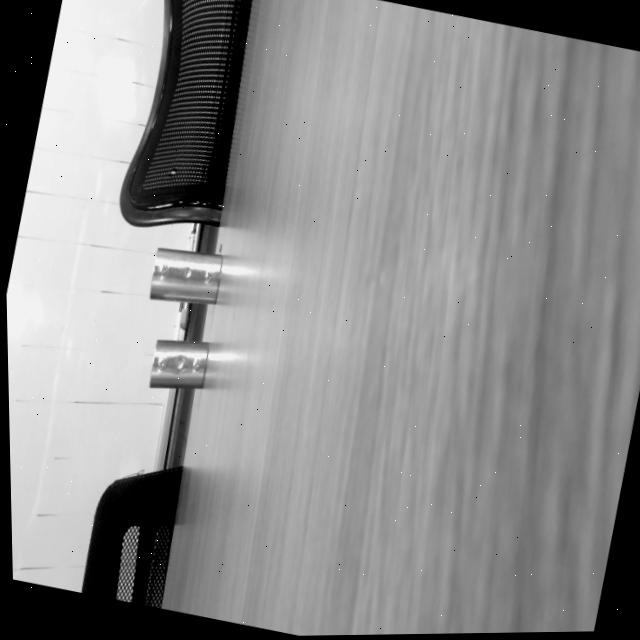Co_Lon: (148, 247, 222, 305)
Co_Nho: (148, 338, 208, 390)
